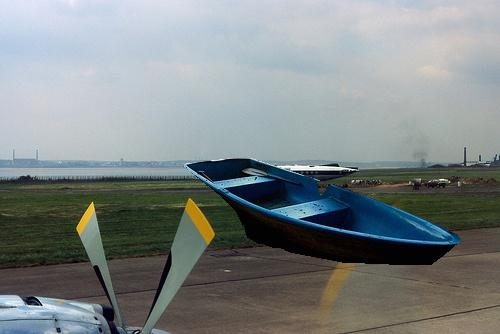tampered: (184, 159, 461, 265)
